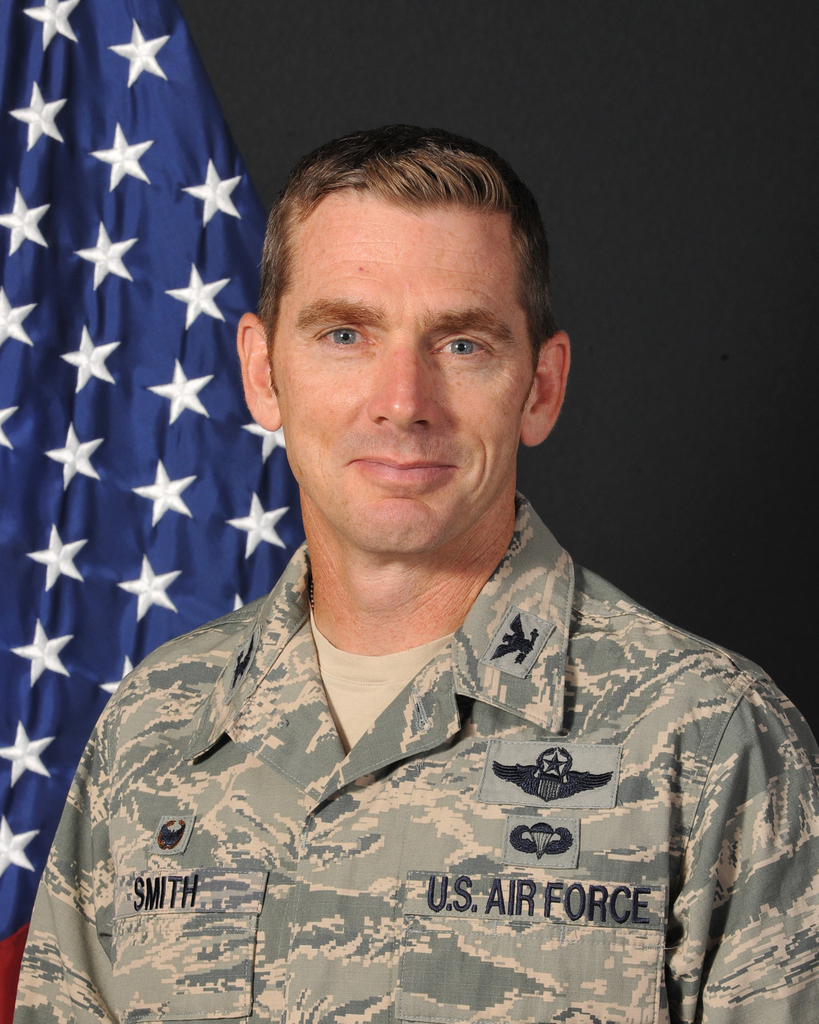Person: (12, 125, 818, 1023)
